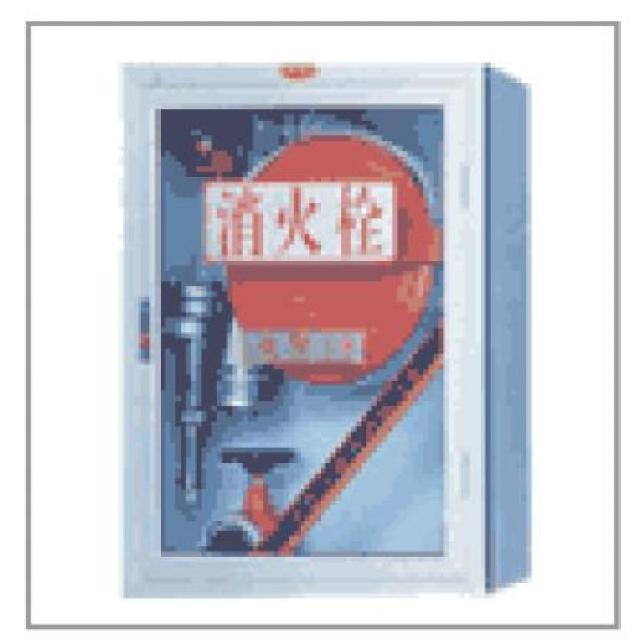firehydrant: (114, 56, 538, 604)
